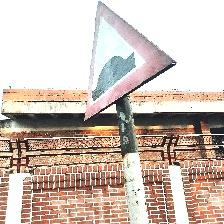Speed-breaker: (84, 1, 177, 122)
